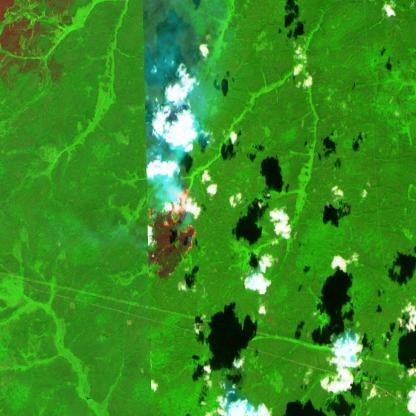fire: (148, 176, 199, 264)
